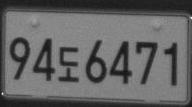1: (160, 42, 184, 86)
4: (108, 40, 133, 84), (32, 38, 55, 80)
6: (84, 39, 107, 84)
7: (135, 40, 158, 84)
9: (8, 35, 31, 79)
도: (58, 45, 79, 82)
